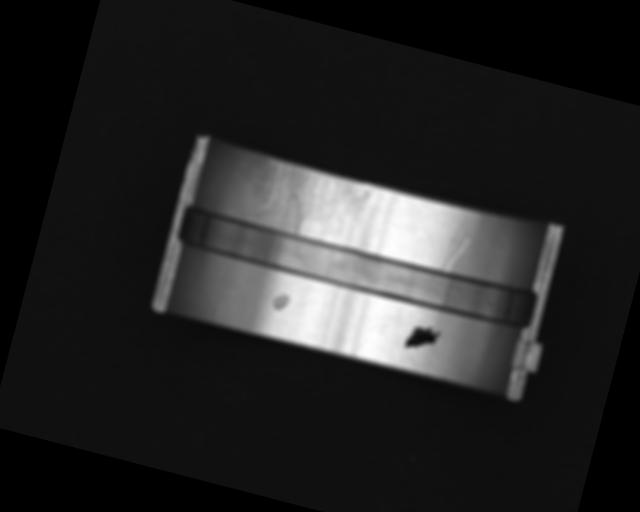blot: (403, 320, 441, 355)
bruise: (269, 291, 292, 314)
gap: (174, 202, 541, 335)
nick: (440, 225, 471, 275)
scratch: (241, 154, 373, 249)
